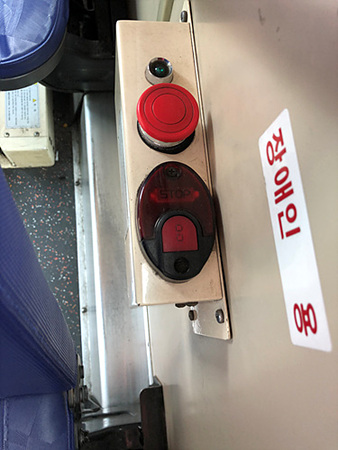bell: (135, 161, 220, 282)
